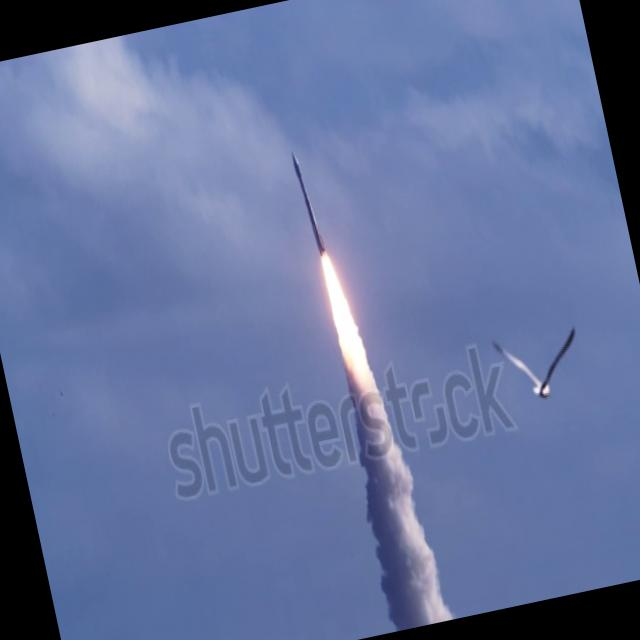rocket: (283, 125, 388, 450)
